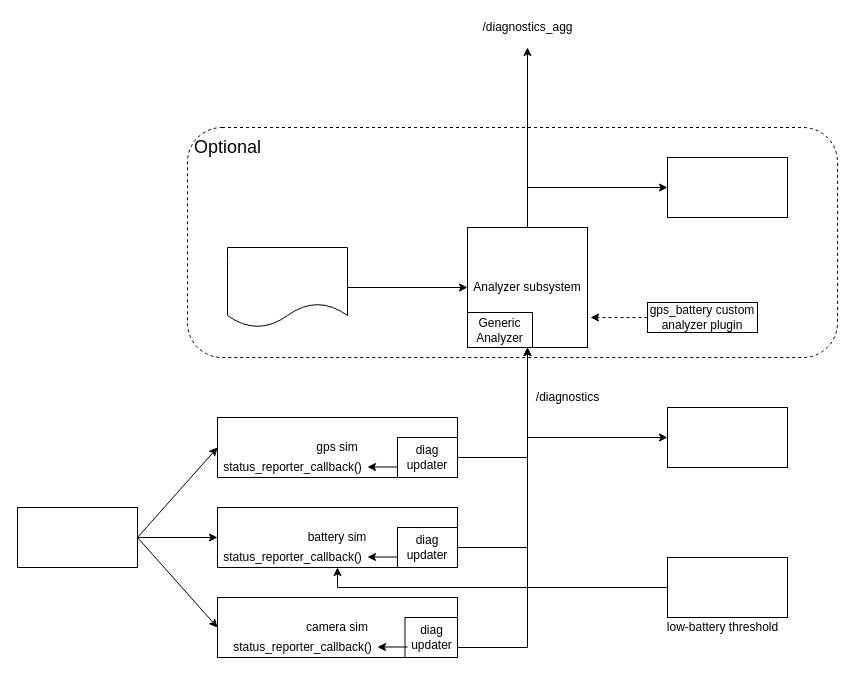
Some shapes in this 855 by 675 pixel diagram are drawn without their labels. Each missing label, with the box of its shape:
100Hz sin generator: (16, 506, 138, 568)
Analyzer Config: (226, 246, 348, 328)
rqt_dynamic_reconfig: (666, 556, 788, 618)
rqt_robot_monitor: (666, 156, 788, 218)
rqt_runtime_monitor: (666, 406, 788, 468)
